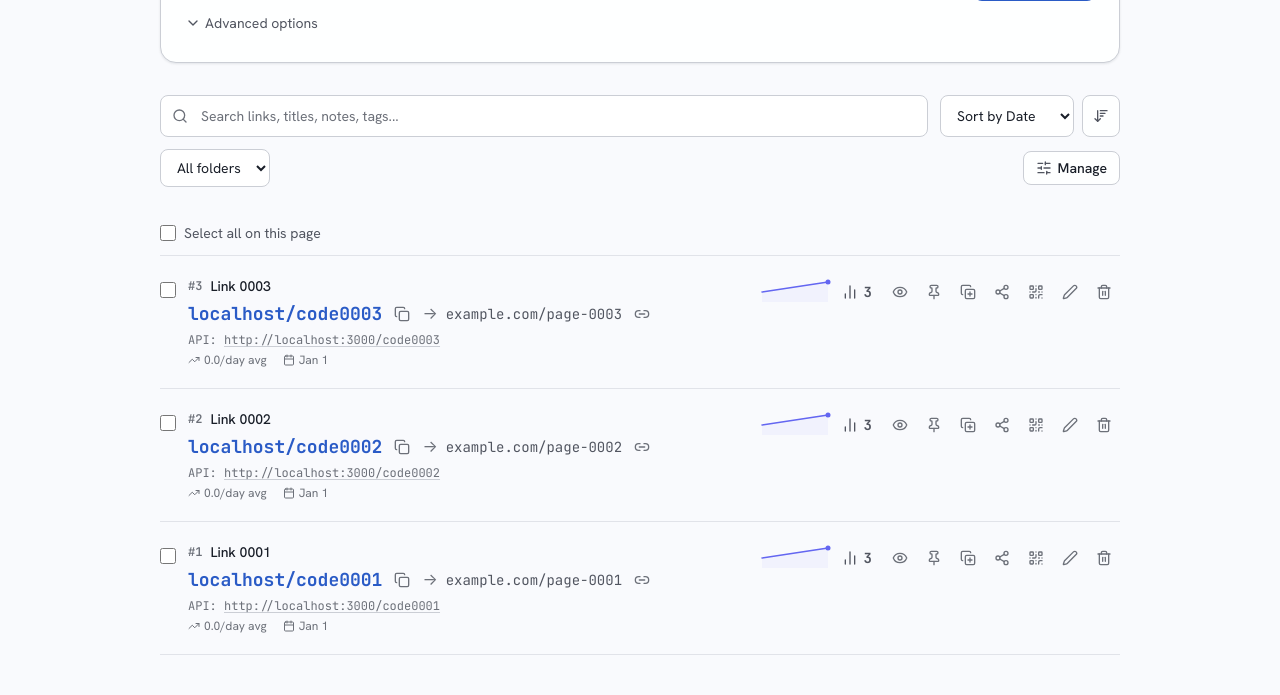
Test case: Dashboard bulk selection › selects rows, selects the whole page, and clears that on the next click
(page scrolled)
What coordinates should you click on to do the following:
click the checkbox named "Select link code0001"
I would click on:
 (168, 556)
Its box is [160,548,176,564].
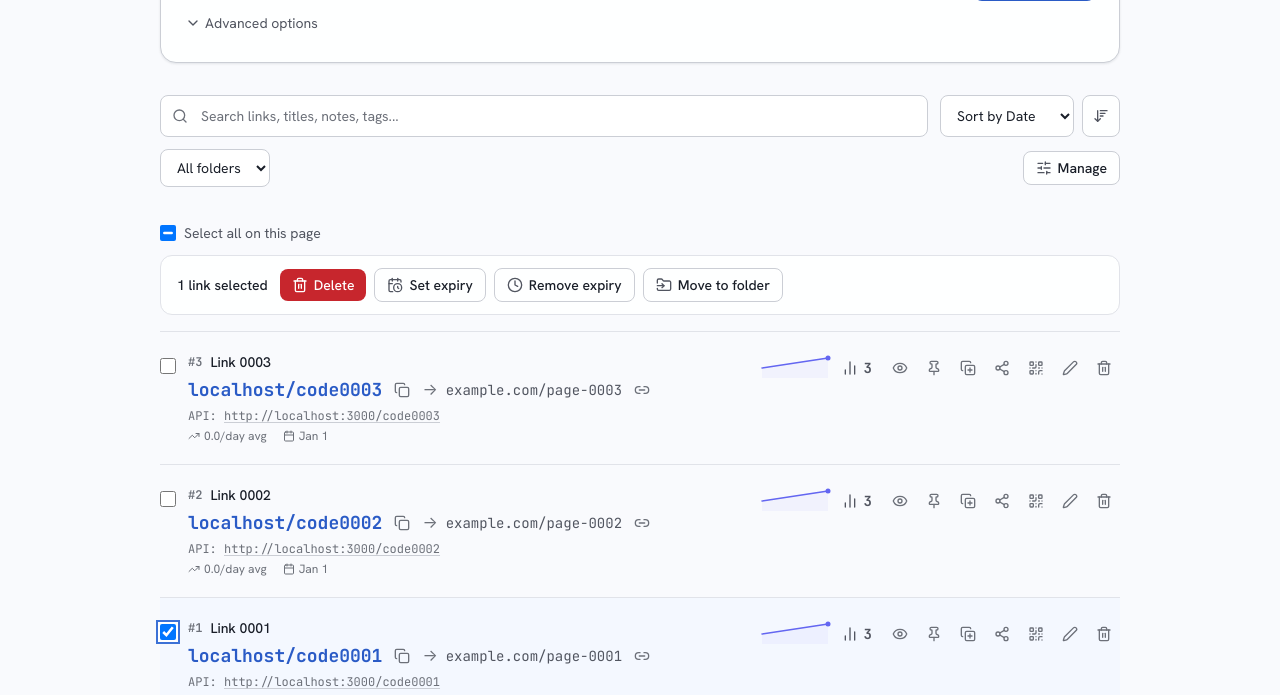
Result: the element named "Bulk actions" shows "1 link selected" at [160,255,1120,315]
What coordinates should you click on to do the following:
click the checkbox labelled "Select all on this page"
I would click on:
 (168, 233)
Its box is [160,225,176,241].
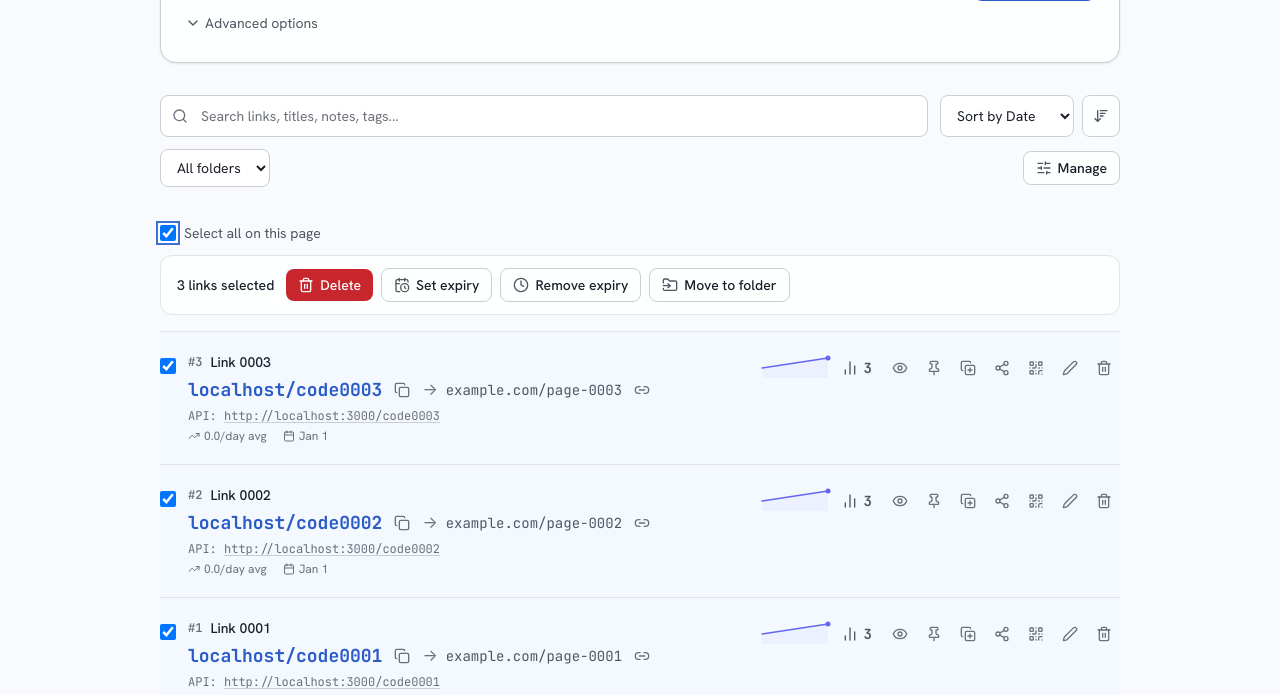
Result: the checkbox named "Select link code0001" is checked at [160,624,176,640]
Result: the checkbox named "Select link code0002" is checked at [160,491,176,507]
Result: the checkbox named "Select link code0003" is checked at [160,358,176,374]
What coordinates should you click on to do the following:
click the checkbox labelled "Select all on this page"
I would click on:
 (168, 233)
Its box is [160,225,176,241].
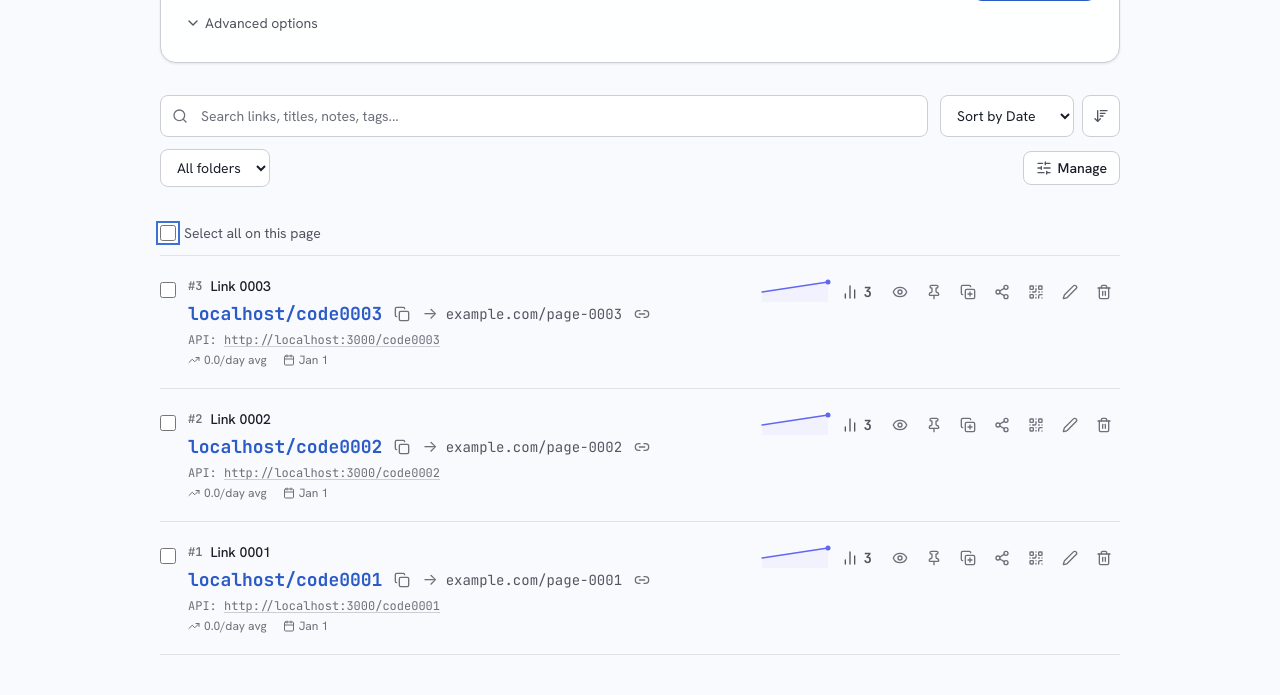
Result: the checkbox named "Select link code0001" is not checked at [160,548,176,564]
# The words are the box's label, so they toggle it too.
What coordinates should you click on to do the following:
click the text "Select all on this page"
I would click on:
 (252, 233)
Its box is [184,223,321,243].
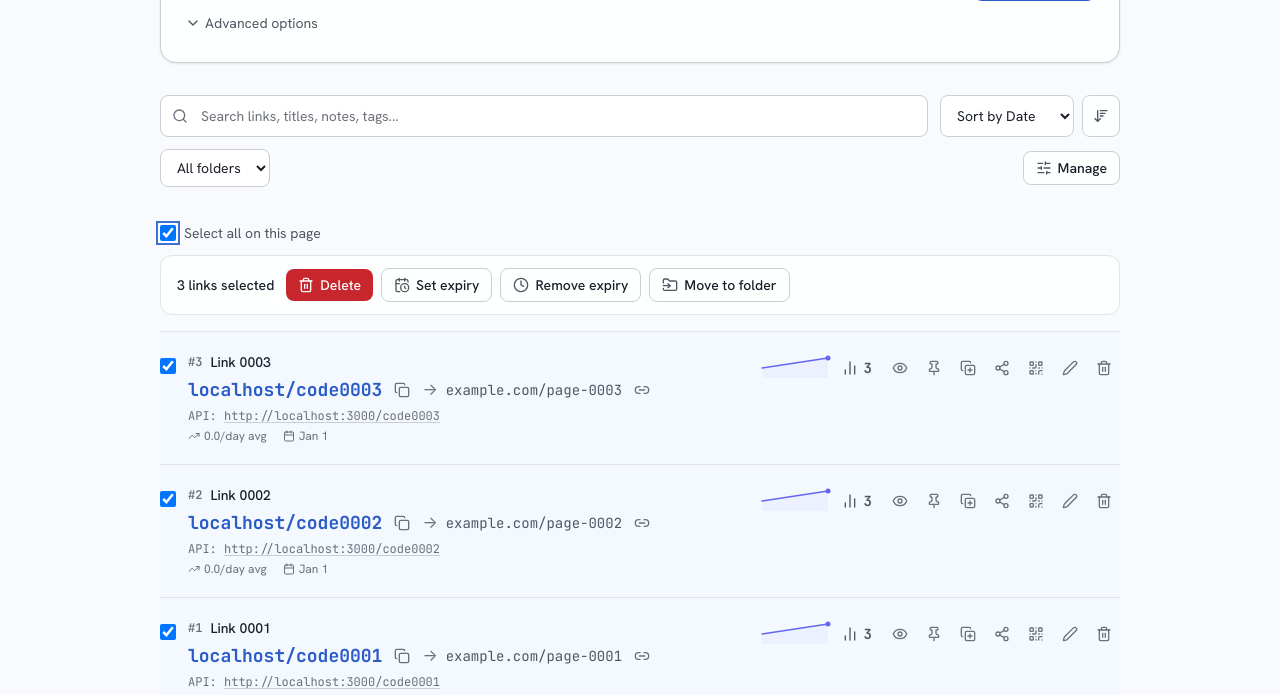
Result: the checkbox labelled "Select all on this page" is checked at [160,225,176,241]
Result: the element named "Bulk actions" shows "3 links selected" at [160,255,1120,315]
